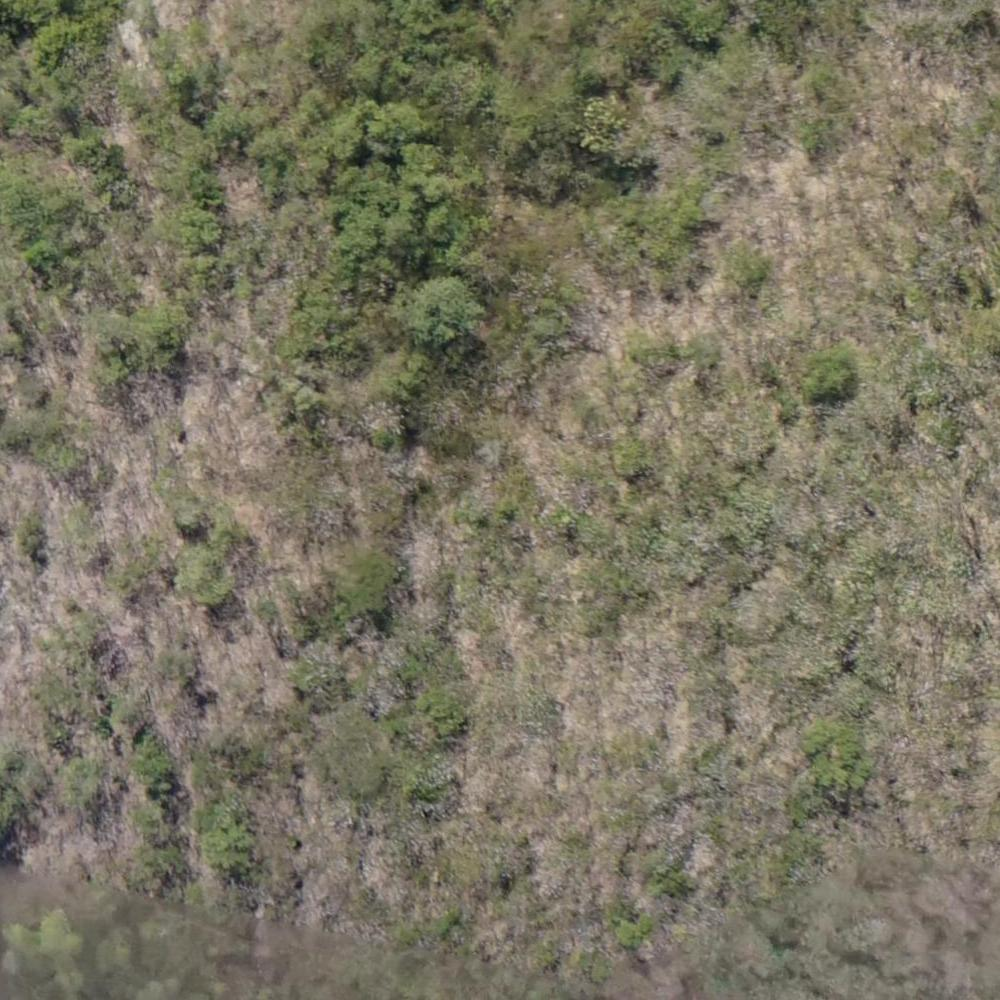tree: (402, 276, 481, 344), (331, 543, 395, 620), (578, 92, 635, 159), (358, 174, 411, 242), (799, 350, 867, 401), (179, 553, 236, 609), (200, 816, 257, 869), (379, 93, 430, 140), (136, 309, 182, 357), (66, 131, 116, 172), (175, 206, 219, 250), (210, 104, 249, 151), (128, 742, 173, 779), (21, 237, 57, 270)
